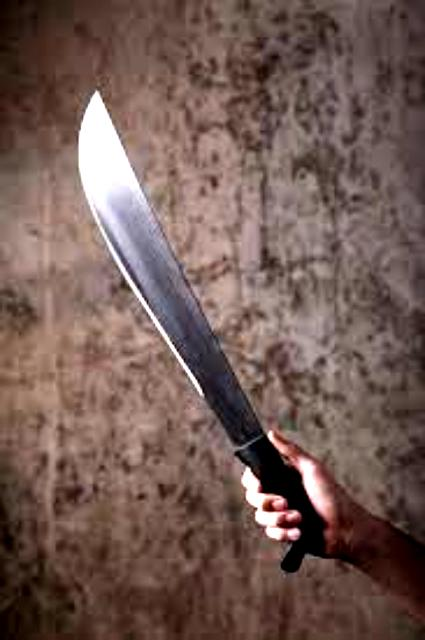long knife: (34, 92, 356, 572)
